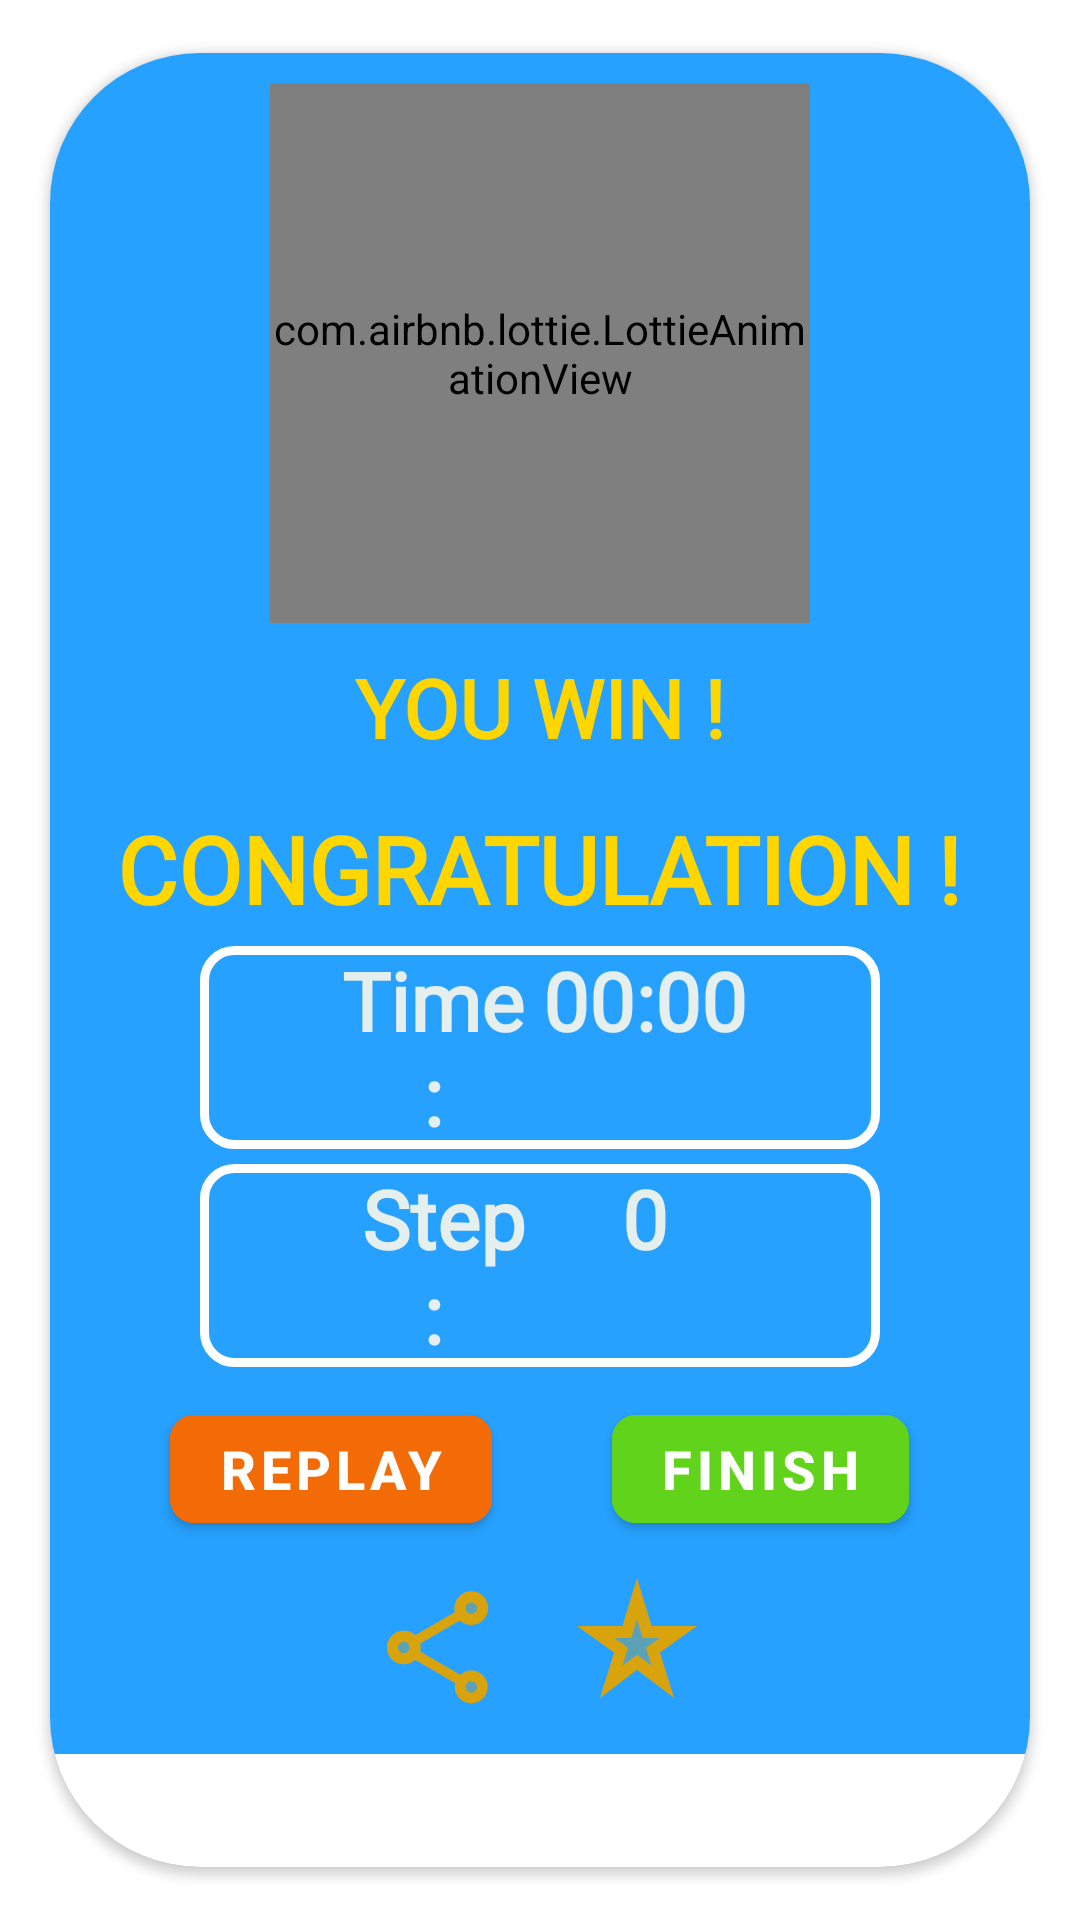

Point at icon controls on the screen. Image size 1080*1920, points as point (x, y).
rate: point (637, 1638)
share: point (437, 1647)
